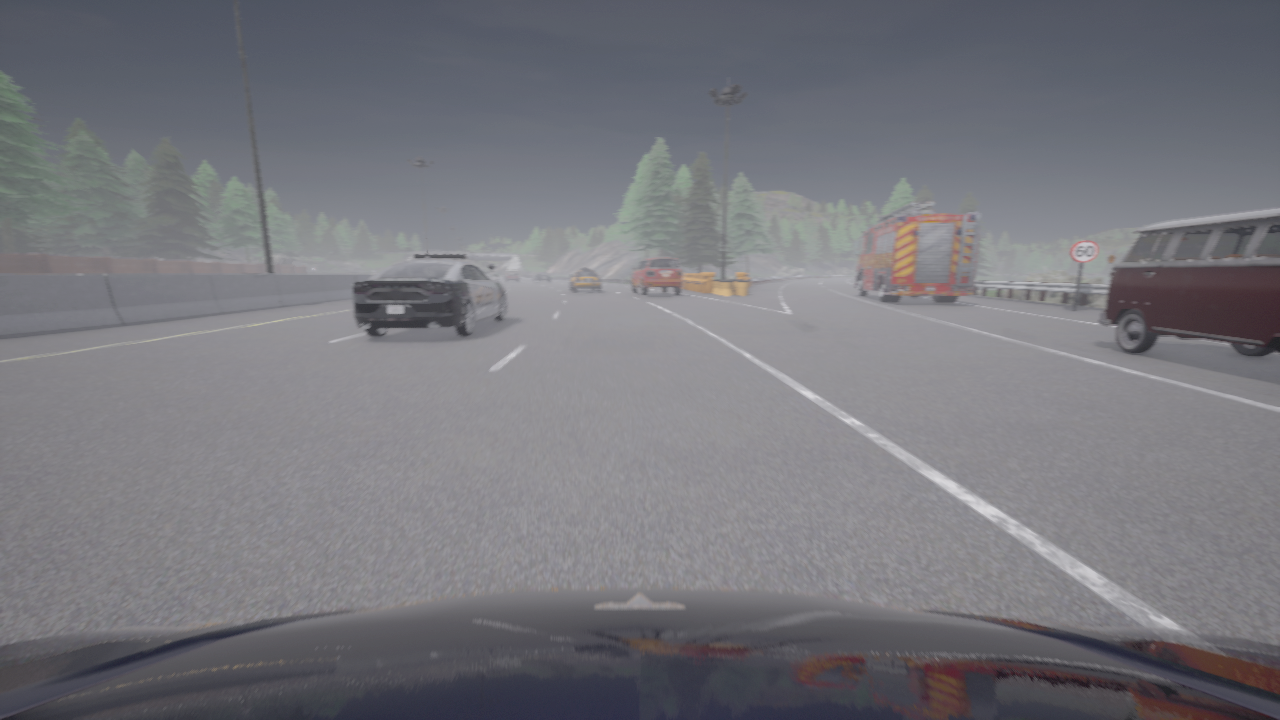cyclist: (0, 588, 1279, 719), (1099, 208, 1279, 357), (352, 253, 506, 337), (853, 202, 979, 303), (631, 258, 683, 295), (570, 268, 601, 291), (534, 272, 551, 283), (505, 271, 519, 282)
